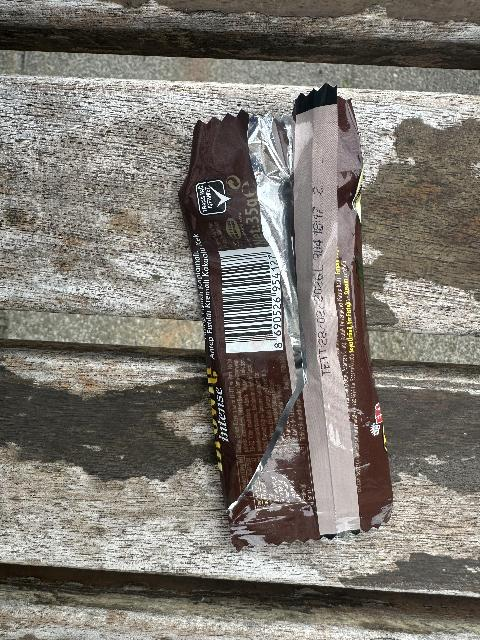Plastik: (187, 95, 405, 533)
